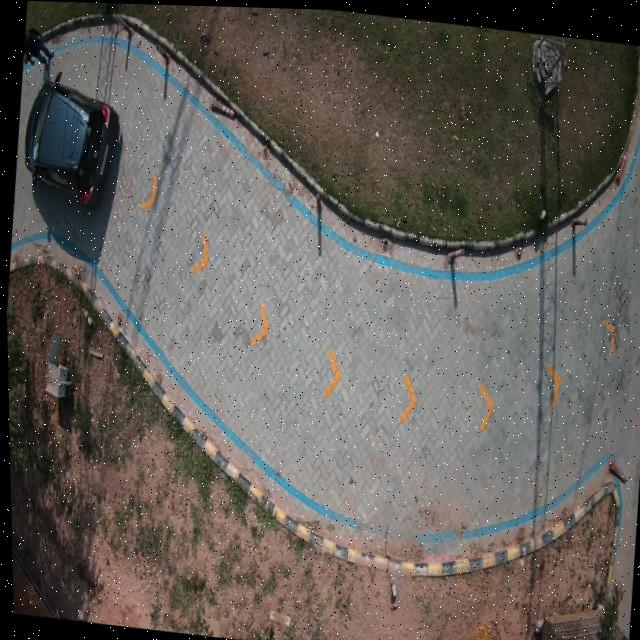car: (23, 71, 119, 206)
